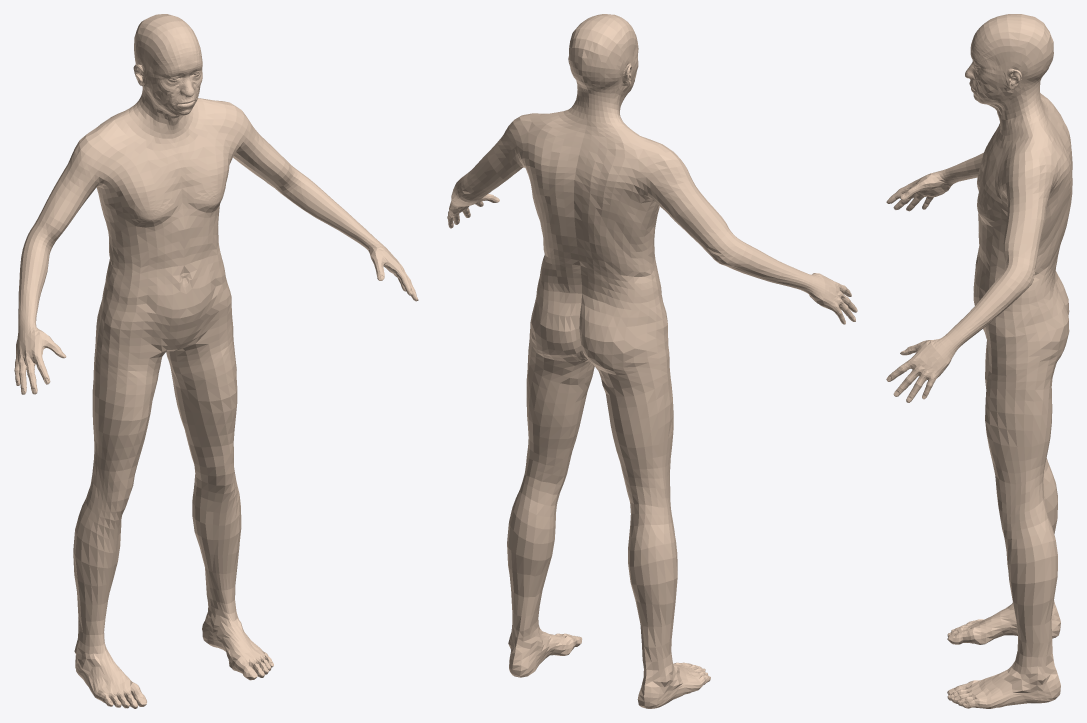
The model's file is male-older-fit-strong.glb.
The picture shows the model from 3 angles, left to right: view 1: azimuth 30°, elevation 25°; view 2: azimuth 150°, elevation 25°; view 3: azimuth 270°, elevation 25°; orthographic projection.
Parts seen in each view (by area): view 1: world; view 2: world; view 3: world.
Boxes of the visible parts, x1,y1,x2,y2 form: world: (14, 14, 418, 708); world: (447, 14, 857, 708); world: (886, 14, 1072, 708).
Size of the model in its own units: 1.22 by 1.93 by 0.4979.
